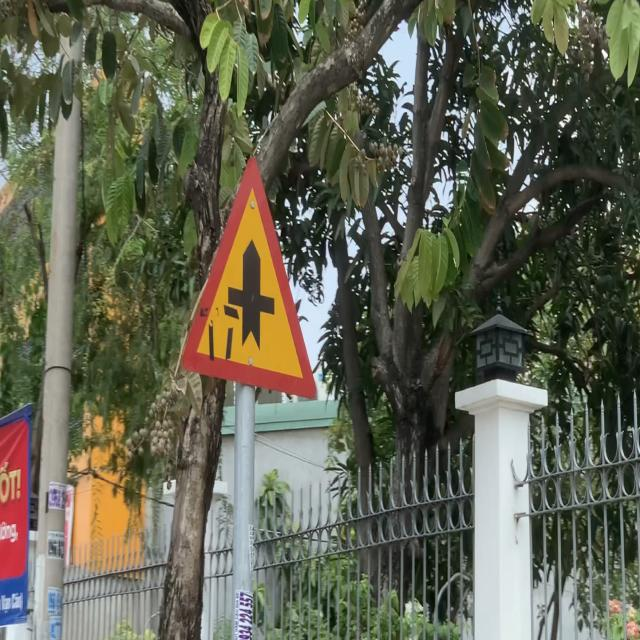Giao voi duong khong uu tien: (174, 148, 323, 414)
